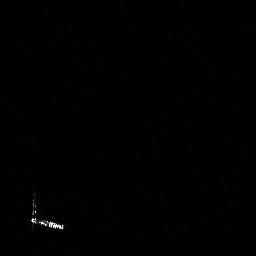ship: (30, 195, 66, 231)
